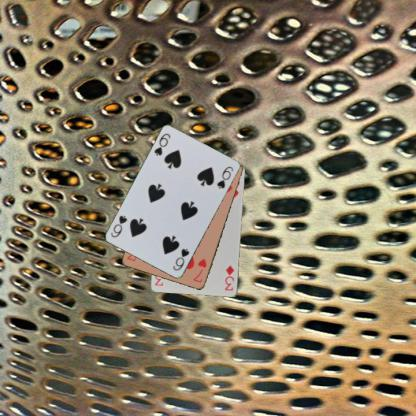3d: (222, 263, 236, 292)
6s: (170, 246, 191, 272), (152, 131, 172, 157)
7h: (190, 256, 208, 284)
